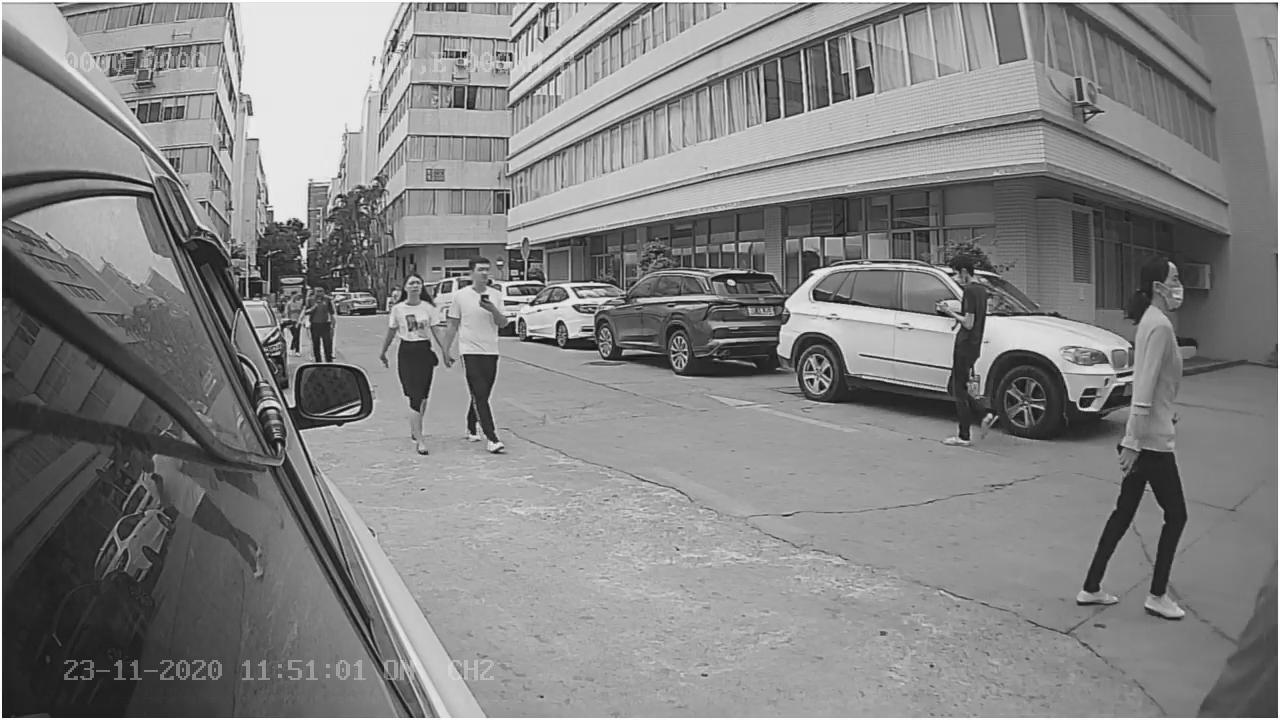person: (1076, 250, 1190, 621), (375, 272, 458, 458), (928, 254, 997, 449)
